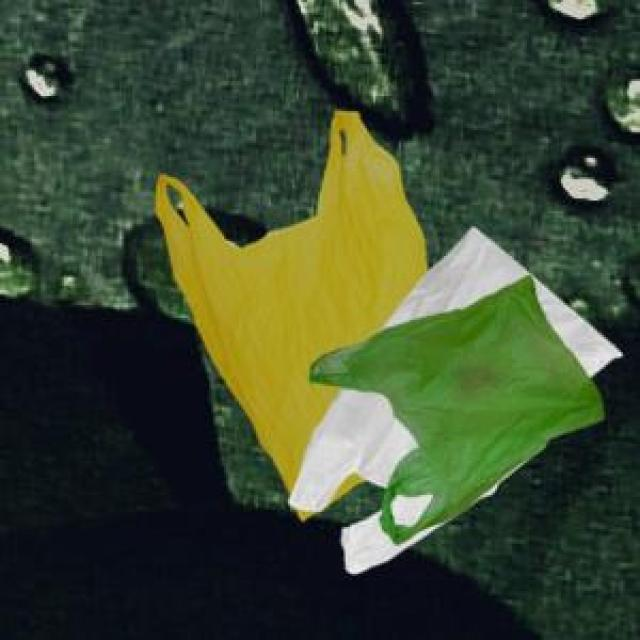Single-layer Plastic: (283, 214, 634, 591), (132, 106, 436, 521), (307, 273, 632, 550)
